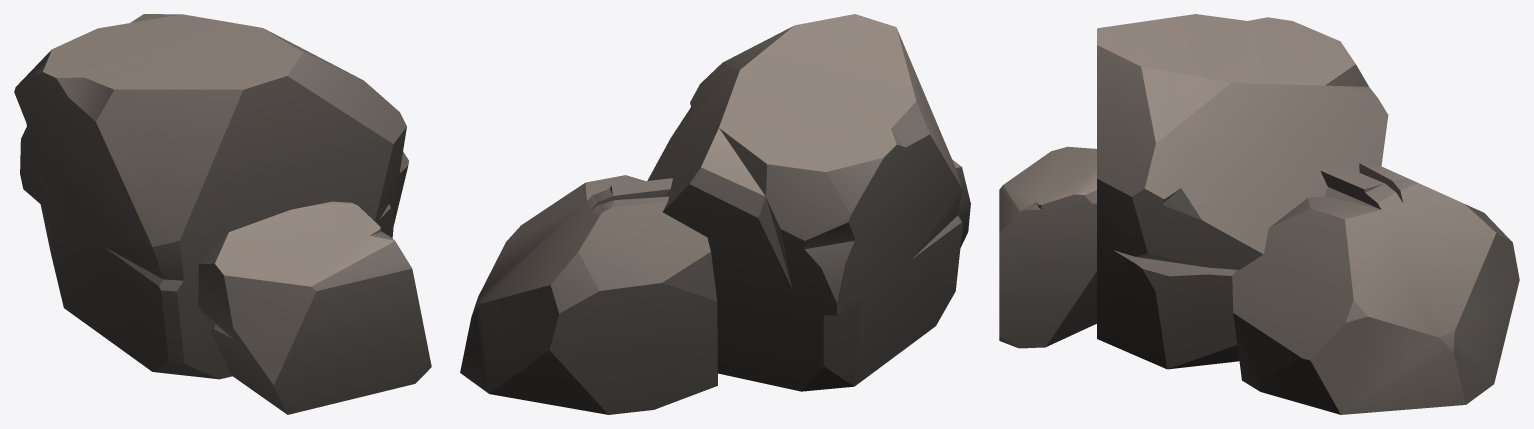
The model's file is Rock_Large_3B.fbx.
The picture shows the model from 3 angles, left to right: view 1: azimuth 30°, elevation 25°; view 2: azimuth 150°, elevation 25°; view 3: azimuth 270°, elevation 25°; orthographic projection. The views are drawn at different scales.
Visible parts, largest first — view 1: Rock_Large_3B; view 2: Rock_Large_3B; view 3: Rock_Large_3B.
Boxes of the visible parts, x1,y1,x2,y2 form: Rock_Large_3B: (14,14,431,414); Rock_Large_3B: (460,14,970,414); Rock_Large_3B: (999,14,1519,414).
Size of the model in its own units: 564 by 408 by 734.
